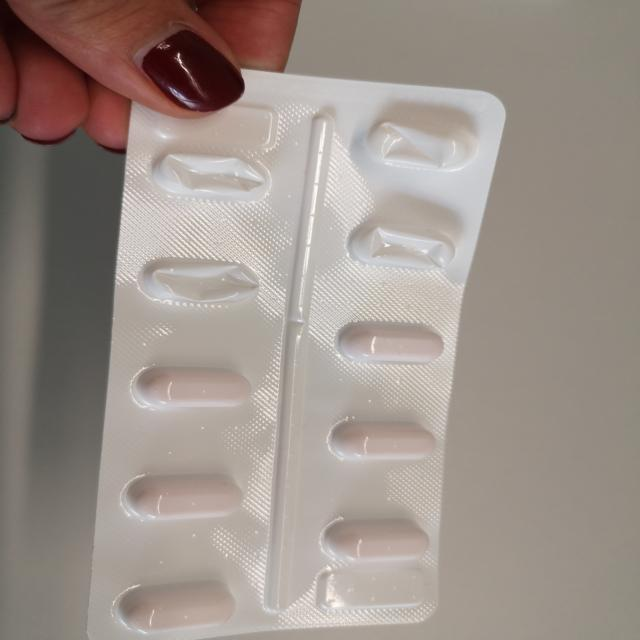Empty: (138, 137, 286, 210), (353, 101, 490, 178), (338, 211, 473, 284), (125, 252, 273, 316)
Pill: (99, 573, 249, 637), (308, 407, 450, 472), (316, 311, 454, 373), (127, 355, 267, 414), (307, 508, 441, 569), (114, 466, 254, 524)
